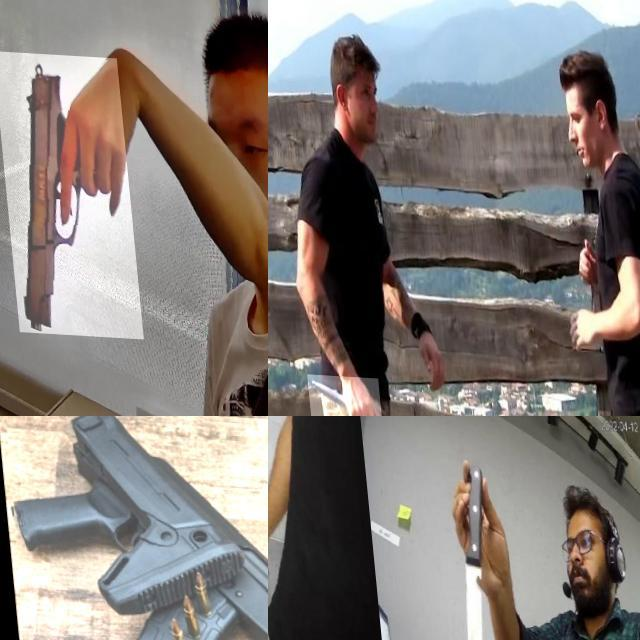-: (449, 522, 504, 640), (298, 372, 373, 416), (268, 585, 290, 636)
gun-knife-thesis - v11 Yolov5 augmented: (0, 416, 268, 640), (0, 50, 136, 337)
